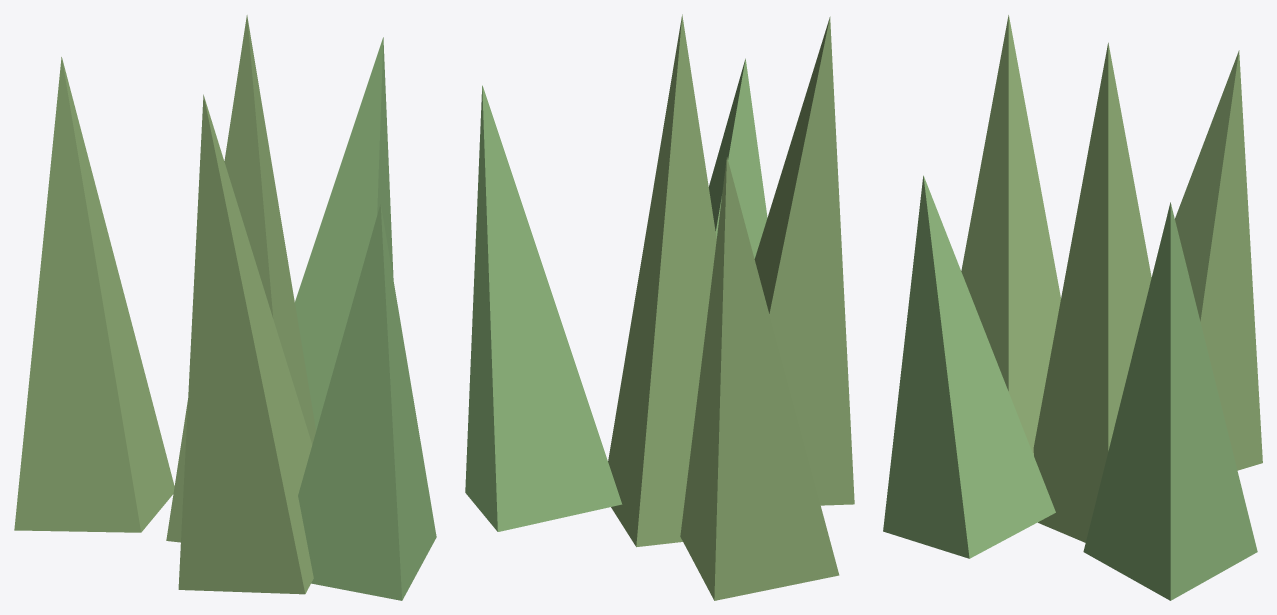
Rendered from grass_tuft.glb.
3 renders of one model, left to right at view 1: azimuth 30°, elevation 25°; view 2: azimuth 150°, elevation 25°; view 3: azimuth 270°, elevation 25°, orthographic. The views are drawn at different scales.
Visible parts, largest first — view 1: blade_4, blade_2, blade_3, blade_1, blade_0; view 2: blade_2, blade_1, blade_0, blade_4, blade_3; view 3: blade_1, blade_3, blade_0, blade_4, blade_2.
Part boxes in pixels (box(x1,y1,x2,y2)): blade_4: box(178, 94, 313, 594); blade_2: box(14, 57, 174, 532); blade_3: box(298, 204, 436, 600); blade_1: box(295, 37, 393, 430); blade_0: box(166, 15, 316, 542); blade_2: box(680, 157, 839, 600); blade_1: box(465, 85, 622, 531); blade_0: box(608, 14, 716, 547); blade_4: box(754, 16, 854, 505); blade_3: box(709, 58, 767, 258); blade_1: box(1083, 202, 1257, 600); blade_3: box(883, 175, 1055, 558); blade_0: box(1033, 42, 1151, 542); blade_4: box(961, 15, 1060, 455); blade_2: box(1175, 50, 1262, 470).
Size of the model in its own units: 0.332 by 0.42 by 0.3051.
